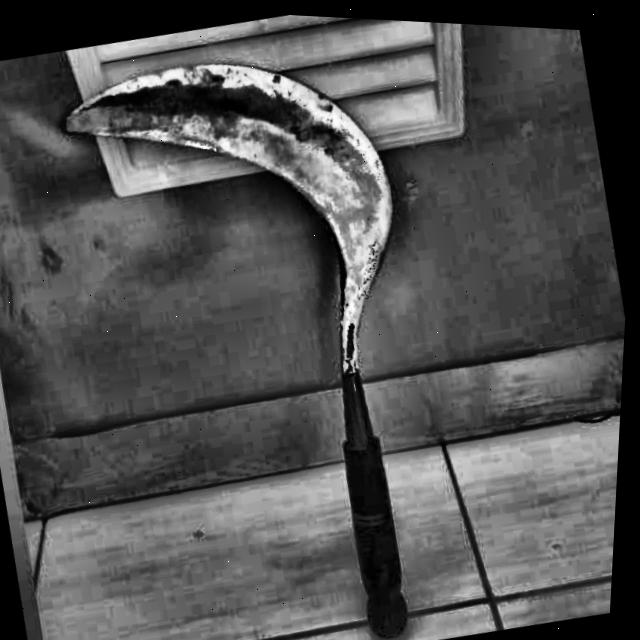celurit: (47, 32, 453, 639)
